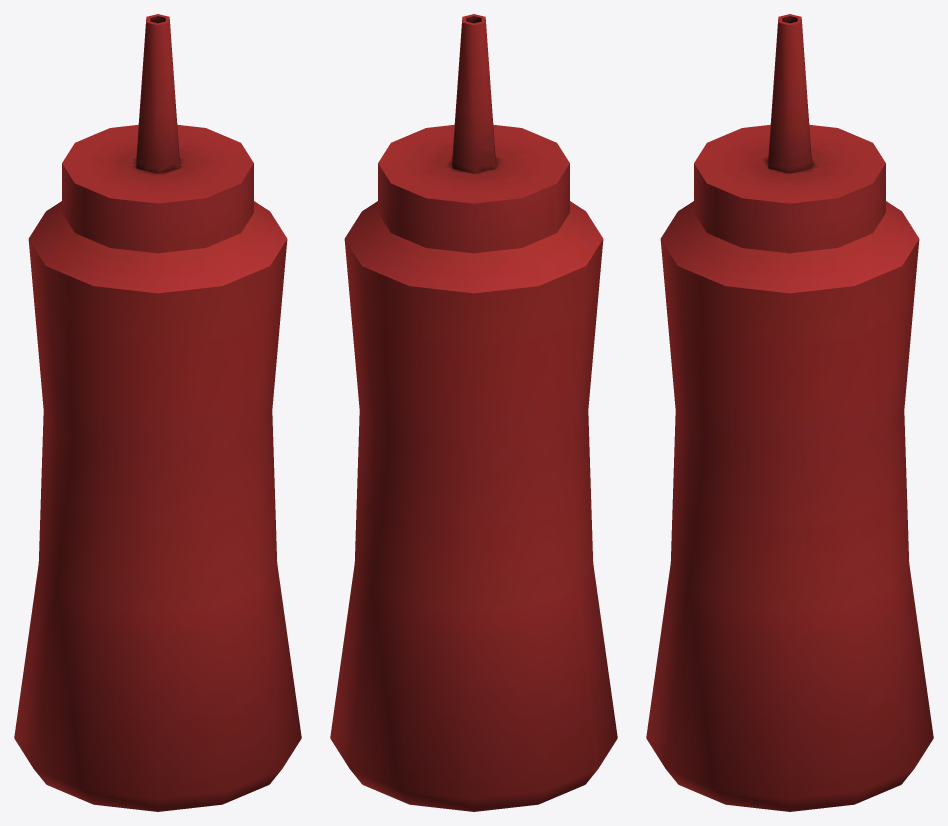
The model's file is sauce_bottle.glb.
3 views of the same model, side by side, from view 1: azimuth 30°, elevation 25°; view 2: azimuth 150°, elevation 25°; view 3: azimuth 270°, elevation 25° (orthographic).
Parts seen in each view (by area): view 1: sauce_bottle; view 2: sauce_bottle; view 3: sauce_bottle.
Part boxes in pixels (x1=…): sauce_bottle: x1=14, y1=14, x2=301, y2=811; sauce_bottle: x1=330, y1=14, x2=617, y2=811; sauce_bottle: x1=646, y1=14, x2=933, y2=811.
Size of the model in its own units: 0.091 by 0.2576 by 0.091.
Materials: 1 (1 with a texture image).
